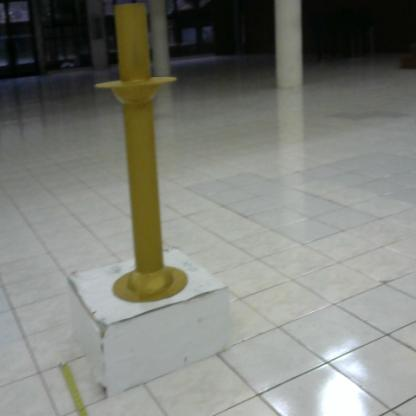pole: (90, 1, 196, 316)
